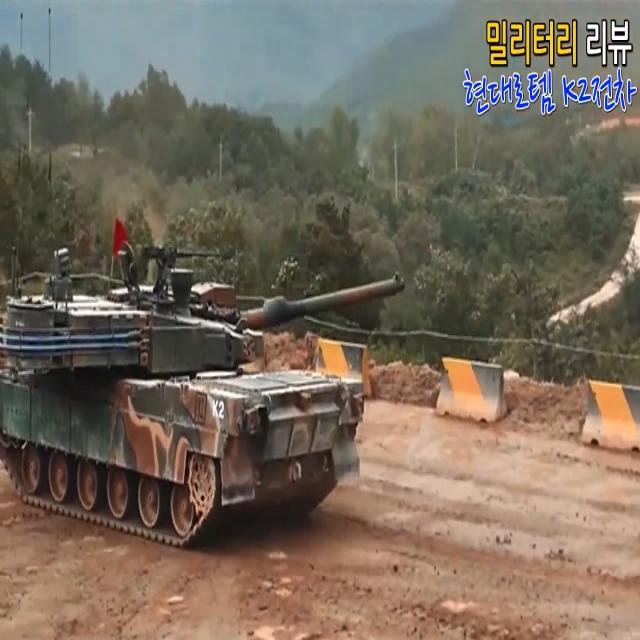korea tank: (1, 237, 407, 548)
